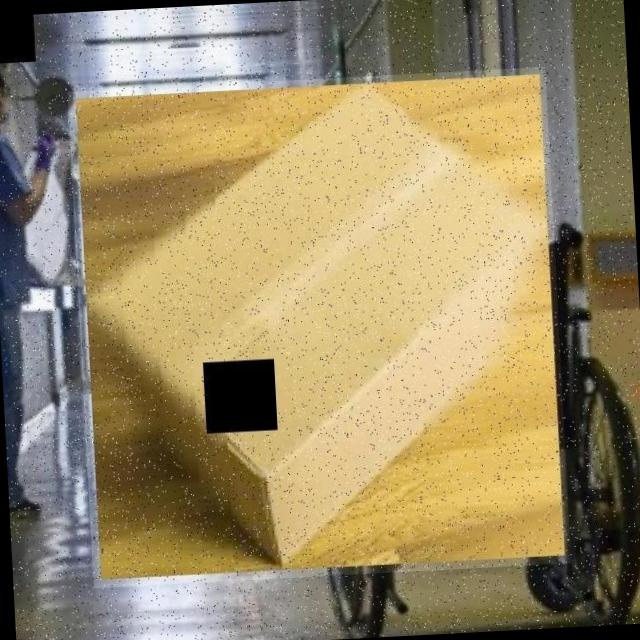box: (68, 67, 571, 588)
